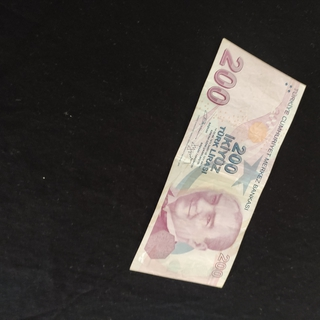200TLFront: (129, 37, 306, 288)
